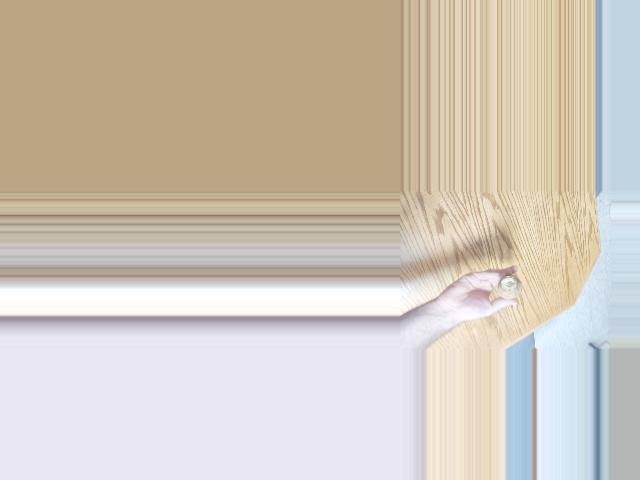sweet_potato: (500, 276, 522, 302)
